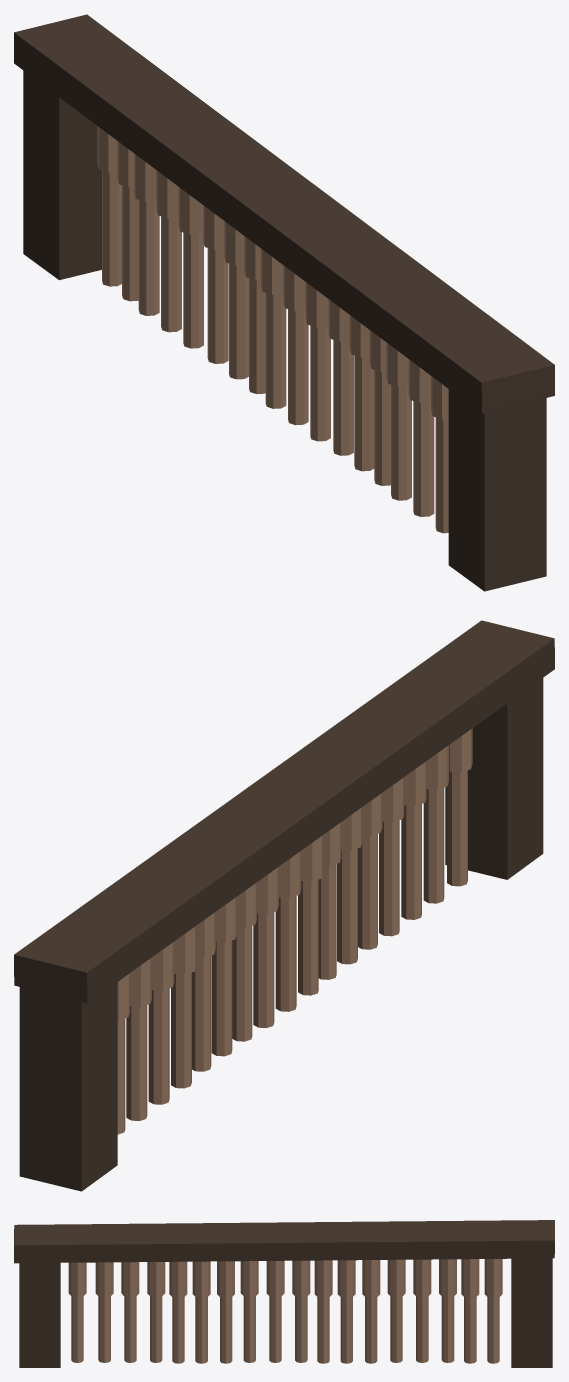
Rendered from cover.fbx.
The picture shows the model from 3 angles, top to bottom: view 1: azimuth 30°, elevation 25°; view 2: azimuth 150°, elevation 25°; view 3: azimuth 270°, elevation 25°; orthographic projection. The views are drawn at different scales.
Visible parts, largest first — view 1: Cube.040; view 2: Cube.040; view 3: Cube.040.
Boxes of the visible parts, x1,y1,x2,y2 form: Cube.040: [14, 14, 554, 591]; Cube.040: [14, 620, 554, 1191]; Cube.040: [14, 1220, 554, 1367].
Size of the model in its own units: 65.18 by 188 by 719.
